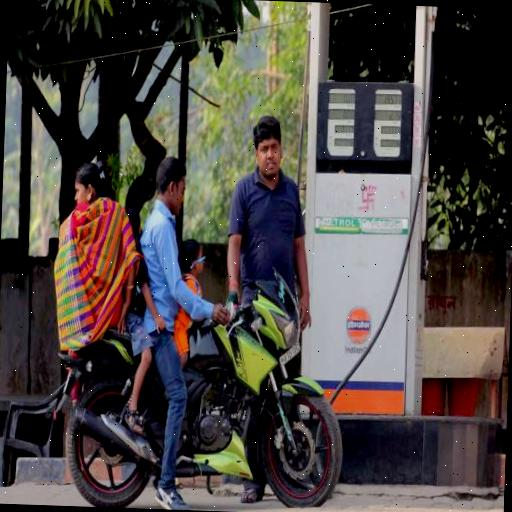no helmet: (140, 148, 200, 272)
triple riding: (50, 120, 233, 380)
